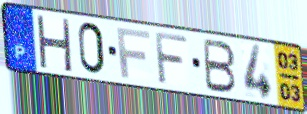0: (76, 21, 107, 77)
4: (242, 42, 274, 103)
B: (202, 36, 238, 95)
F: (153, 29, 190, 87), (114, 26, 152, 81)
H: (34, 13, 73, 74)
